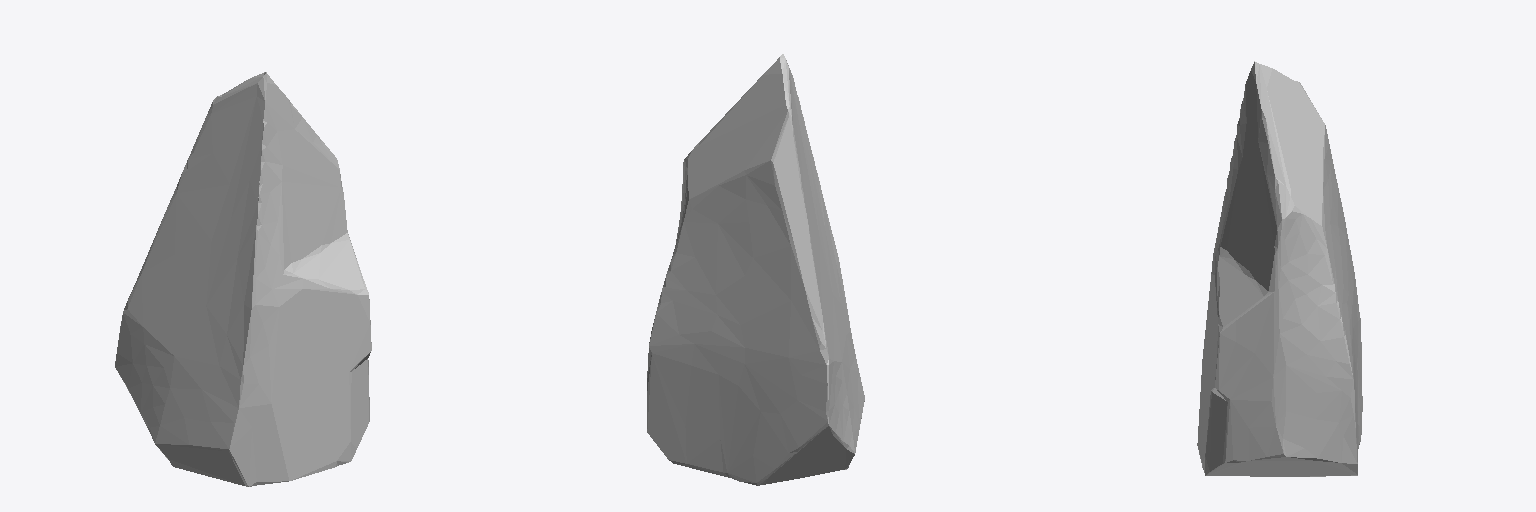
Rendered from sm_rock12.OBJ.
The picture shows the model from 3 angles: view 1: azimuth 30°, elevation 25°; view 2: azimuth 150°, elevation 25°; view 3: azimuth 270°, elevation 25°; orthographic projection.
Parts seen in each view (by area): view 1: ZBrushPolyMesh3D; view 2: ZBrushPolyMesh3D; view 3: ZBrushPolyMesh3D.
Boxes of the visible parts, box(x1,y1,x2,y2) form: ZBrushPolyMesh3D: box(115, 72, 371, 486); ZBrushPolyMesh3D: box(647, 54, 864, 485); ZBrushPolyMesh3D: box(1197, 61, 1362, 476).
Size of the model in its own units: 1.83 by 3.35 by 1.3.